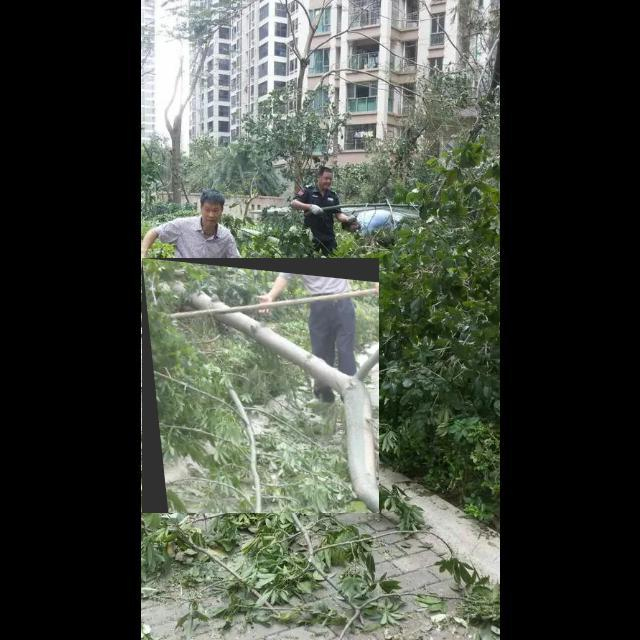fallen_tree: (142, 258, 380, 514)
